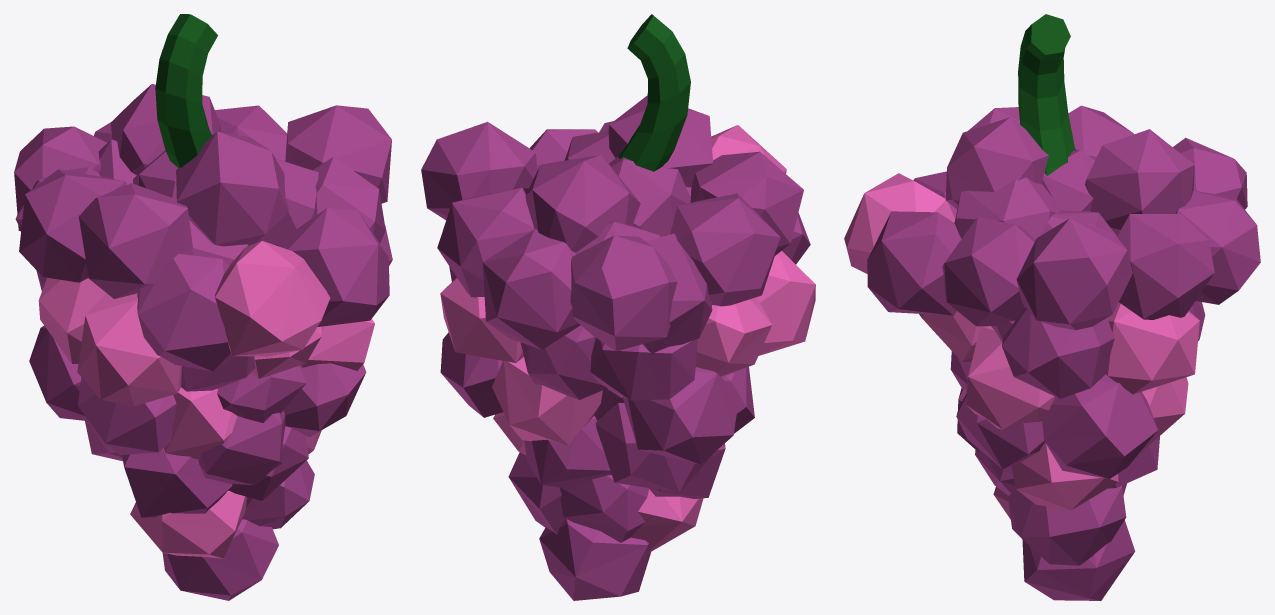
The model's file is Berry.fbx.
3 views of the same model, side by side, from view 1: azimuth 30°, elevation 25°; view 2: azimuth 150°, elevation 25°; view 3: azimuth 270°, elevation 25° (orthographic). The views are drawn at different scales.
Visible parts, largest first — view 1: Icosphere.081, Cylinder.007; view 2: Icosphere.081, Cylinder.007; view 3: Icosphere.081, Cylinder.007.
Boxes of the visible parts, left/top/right/bottom form: Icosphere.081: left=14, top=84, right=392, bottom=600; Cylinder.007: left=155, top=14, right=217, bottom=167; Icosphere.081: left=421, top=95, right=815, bottom=600; Cylinder.007: left=618, top=14, right=690, bottom=171; Icosphere.081: left=844, top=105, right=1260, bottom=600; Cylinder.007: left=1018, top=14, right=1075, bottom=175.
Bounding box in the file's own units: 1139 × 1860 × 1240.
